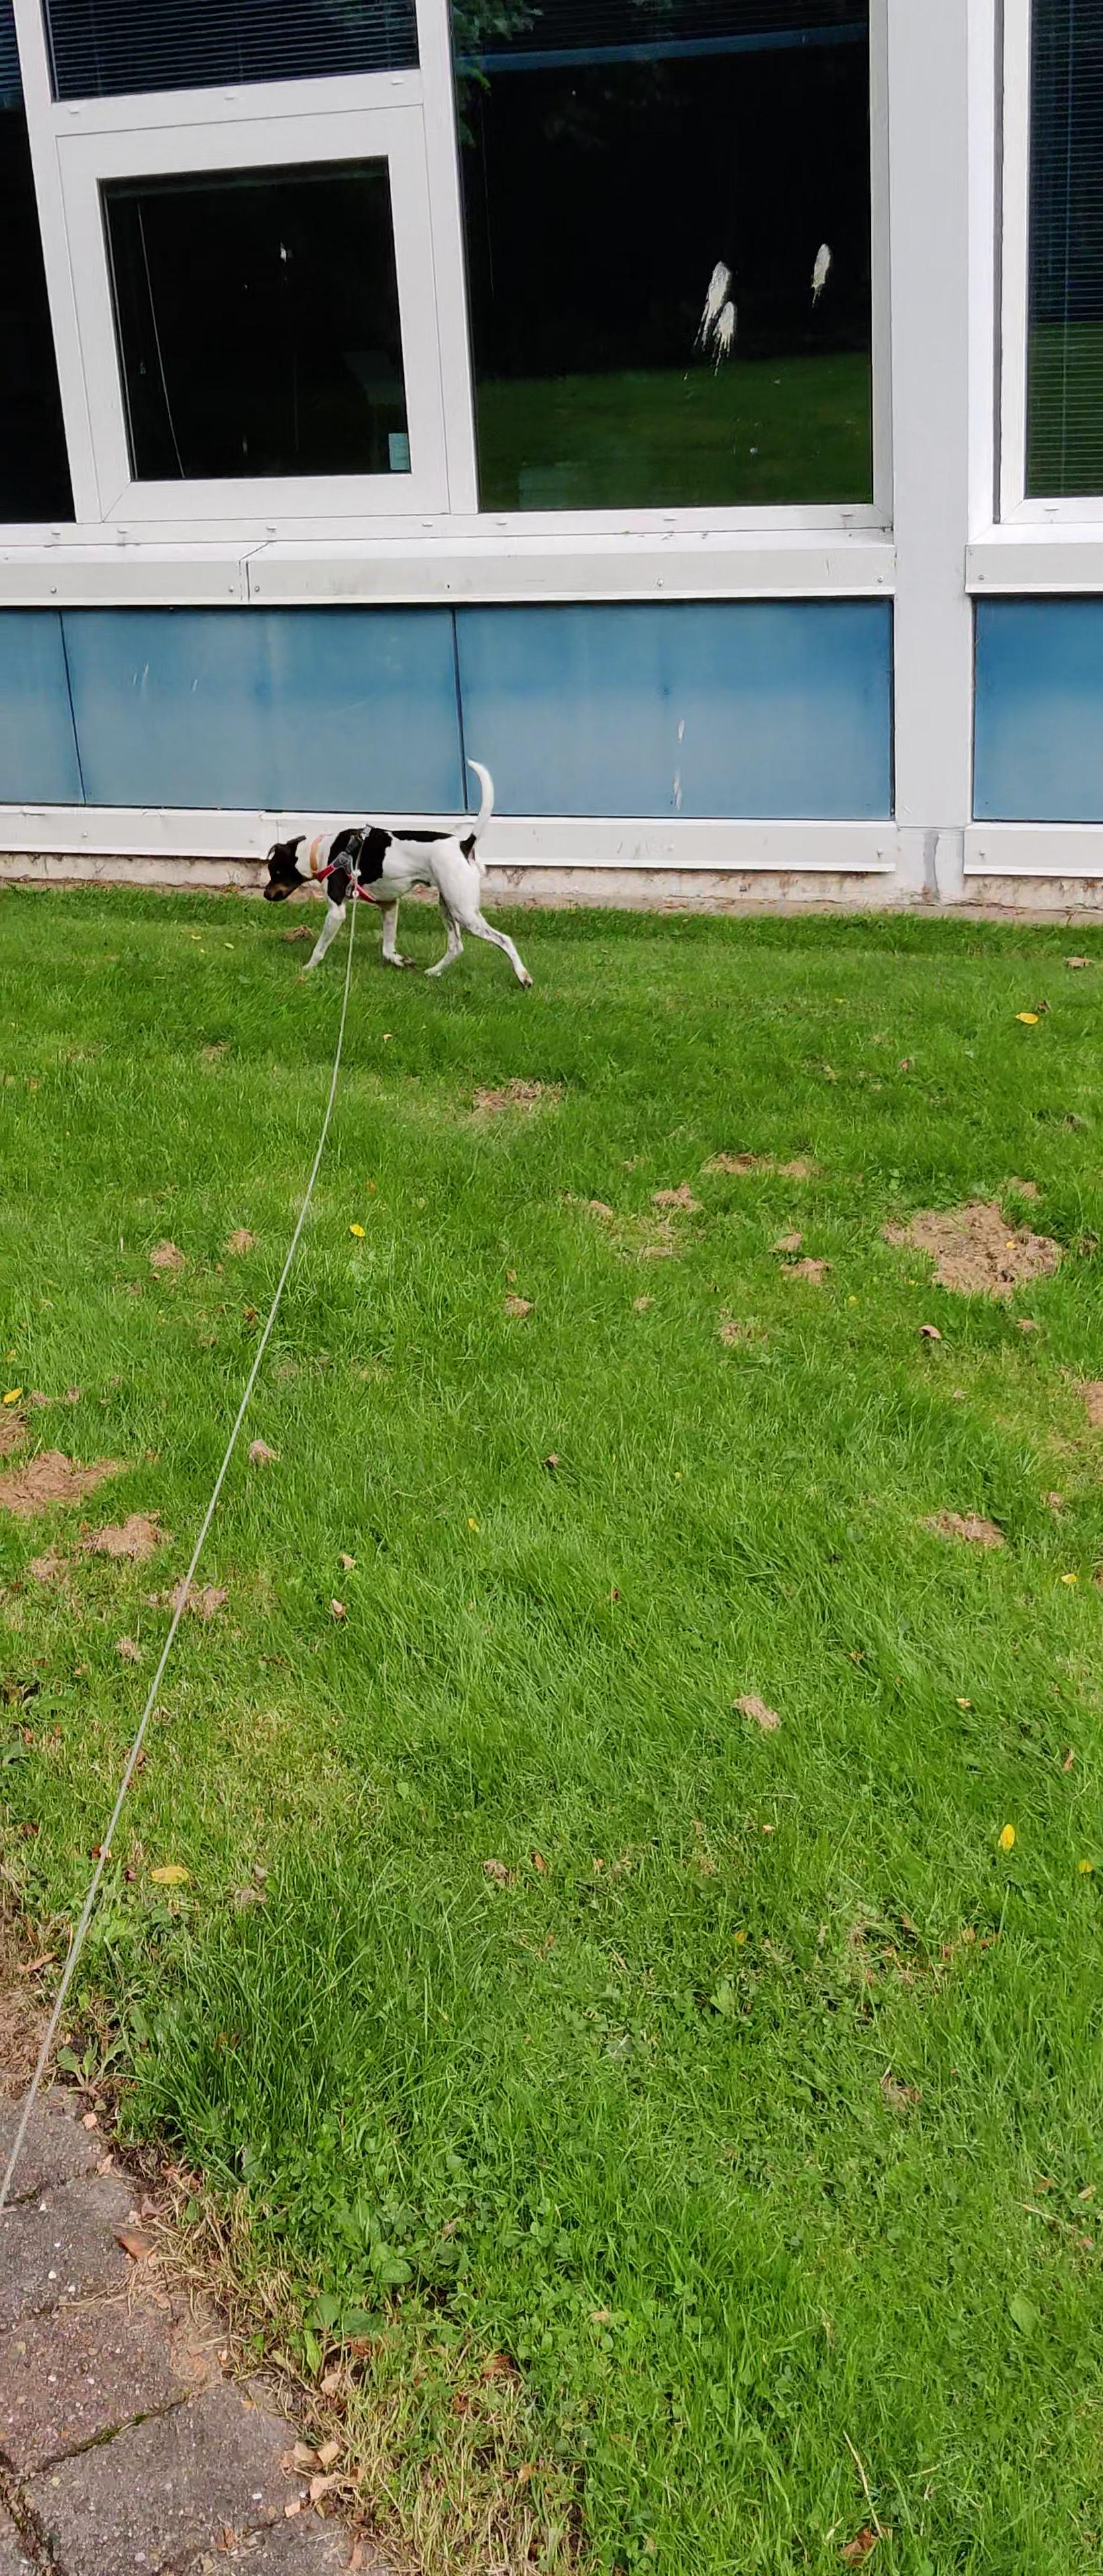Dog: (253, 751, 546, 991)
